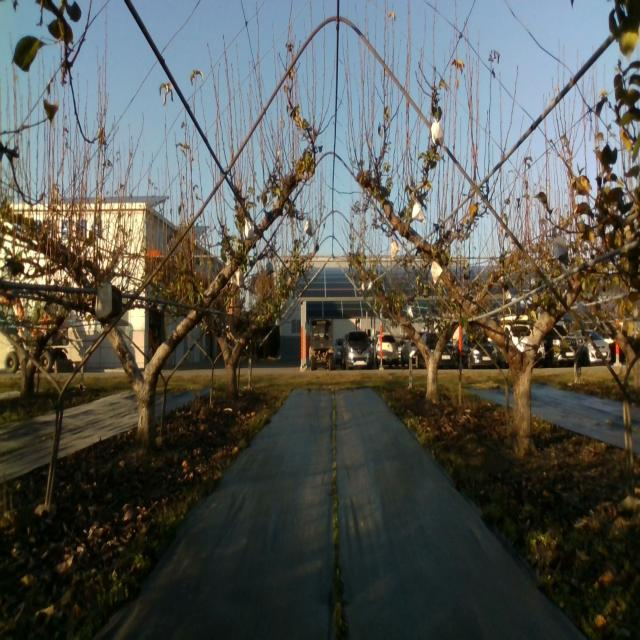pearbags: (551, 230, 569, 266), (432, 119, 446, 148), (431, 261, 443, 285), (412, 202, 425, 224)
